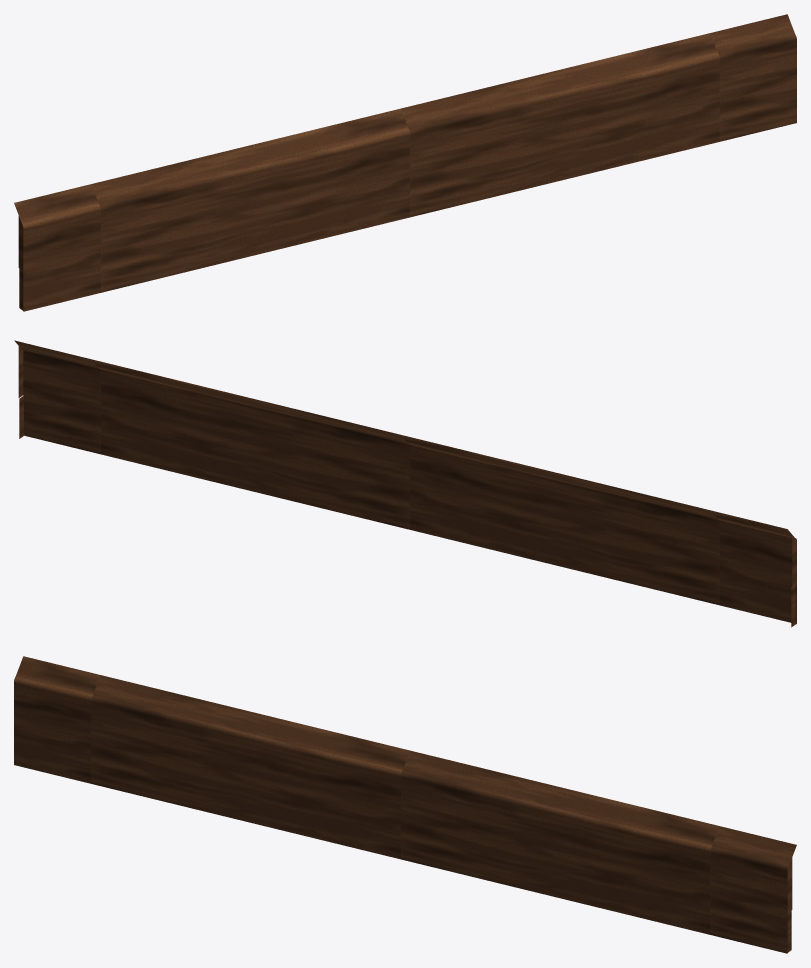
The model's file is skirting.glb.
3 renders of one model, top to bottom at view 1: azimuth 30°, elevation 25°; view 2: azimuth 150°, elevation 25°; view 3: azimuth 330°, elevation 25°, orthographic.
Visible parts, largest first — view 1: Skirting; view 2: Skirting; view 3: Skirting.
Boxes of the visible parts, left/top/right/bottom form: Skirting: left=14, top=14, right=796, bottom=311; Skirting: left=14, top=340, right=796, bottom=627; Skirting: left=14, top=656, right=796, bottom=953.
Size of the model in its own units: 2 by 0.252 by 0.042.
Materials: 1 (1 with a texture image).
